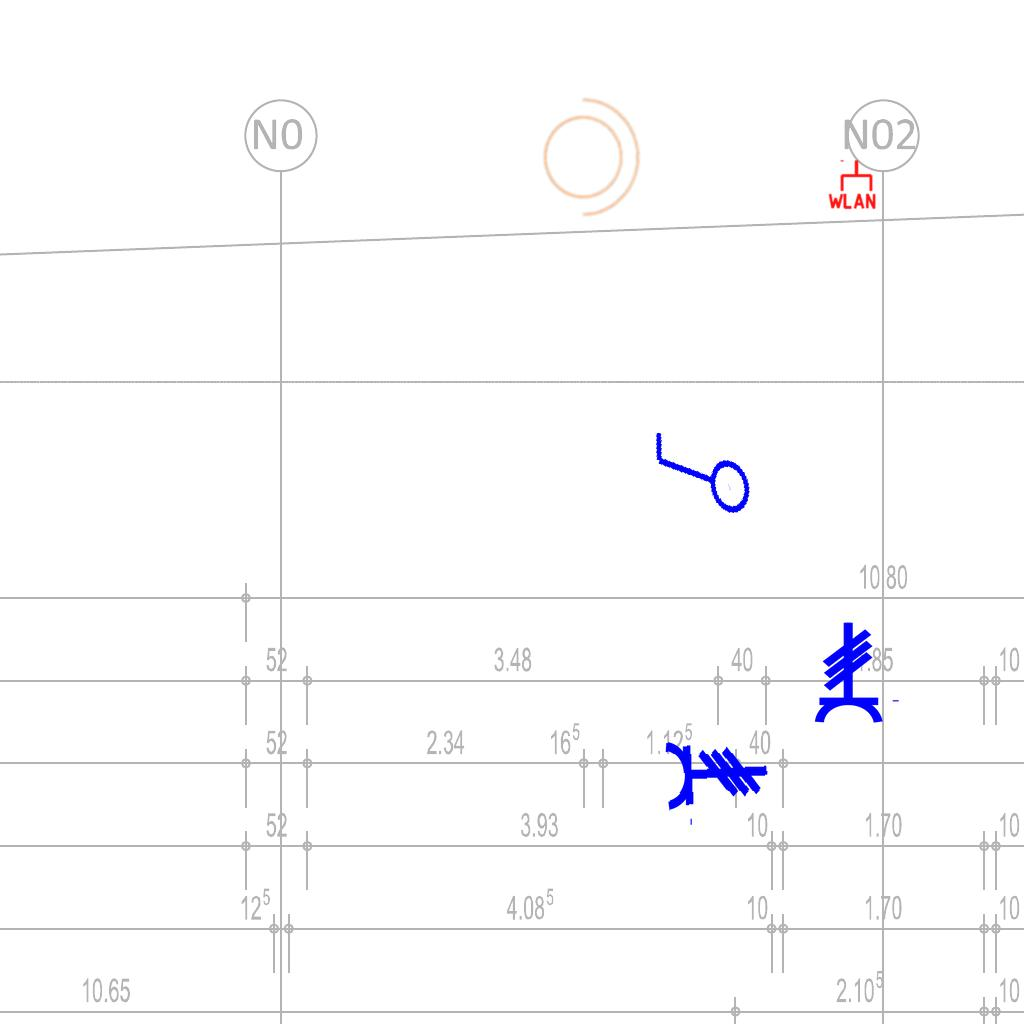Ausschalter: (639, 409, 761, 543)
CEE_Drehstrom_Steckdose_16_32_A: (662, 734, 772, 830), (812, 621, 902, 725)
Scheinwerfer_fuer_Alarmbeleuchtung: (532, 88, 644, 220)
WLAN: (826, 158, 878, 210)
